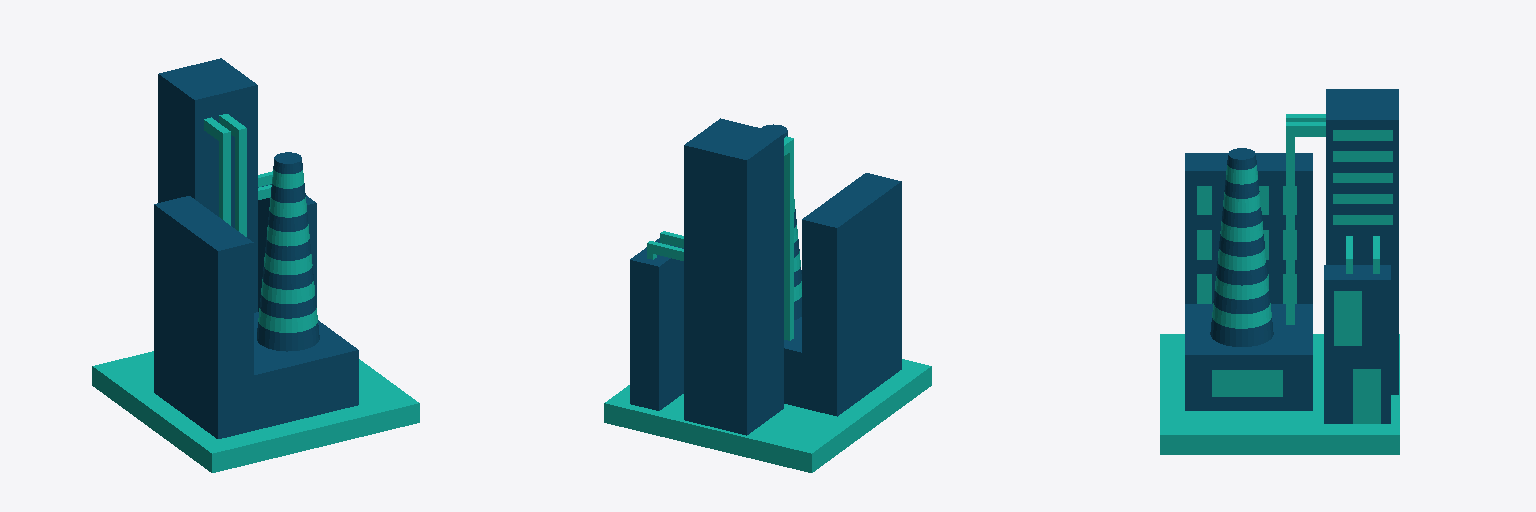
The picture shows the model from 3 angles: view 1: azimuth 30°, elevation 25°; view 2: azimuth 150°, elevation 25°; view 3: azimuth 270°, elevation 25°; orthographic projection.
Visible parts, largest first — view 1: Cube.001_Cube.001_Material.002, Cube.002_Cube.002_Material.002, Cube_Cube_Material.001, Cylinder_Cylinder.001_Material.002, Cylinder_Cylinder.001_Material.001, Cube.003_Cube.003_Material.002; view 2: Cube.002_Cube.002_Material.002, Cube.001_Cube.001_Material.002, Cube_Cube_Material.001, Cube.003_Cube.003_Material.002, Cylinder_Cylinder.001_Material.002; view 3: Cube.001_Cube.001_Material.002, Cube.002_Cube.002_Material.002, Cube_Cube_Material.001, Cube.003_Cube.003_Material.002, Cylinder_Cylinder.001_Material.002, Cube.001_Cube.001_Material.001, Cylinder_Cylinder.001_Material.001, Cube.003_Cube.003_Material.001.
Boxes of the visible parts, <box> form: Cube.001_Cube.001_Material.002: <box>154,196,358,438</box>; Cube.002_Cube.002_Material.002: <box>158,58,272,312</box>; Cube_Cube_Material.001: <box>92,351,419,472</box>; Cylinder_Cylinder.001_Material.002: <box>257,152,319,351</box>; Cylinder_Cylinder.001_Material.001: <box>258,169,317,332</box>; Cube.003_Cube.003_Material.002: <box>258,184,316,311</box>; Cube.002_Cube.002_Material.002: <box>647,118,793,435</box>; Cube.001_Cube.001_Material.002: <box>784,173,901,416</box>; Cube_Cube_Material.001: <box>604,359,931,472</box>; Cube.003_Cube.003_Material.002: <box>630,238,683,410</box>; Cylinder_Cylinder.001_Material.002: <box>762,124,801,319</box>; Cube.001_Cube.001_Material.002: <box>1185,153,1312,410</box>; Cube.002_Cube.002_Material.002: <box>1286,89,1398,394</box>; Cube_Cube_Material.001: <box>1160,334,1399,454</box>; Cube.003_Cube.003_Material.002: <box>1324,265,1390,423</box>; Cylinder_Cylinder.001_Material.002: <box>1210,148,1273,346</box>; Cube.001_Cube.001_Material.001: <box>1197,186,1296,396</box>; Cylinder_Cylinder.001_Material.001: <box>1212,165,1271,328</box>; Cube.003_Cube.003_Material.001: <box>1334,291,1380,423</box>.
Bounding box in the file's own units: 15.35 × 20.97 × 15.35.